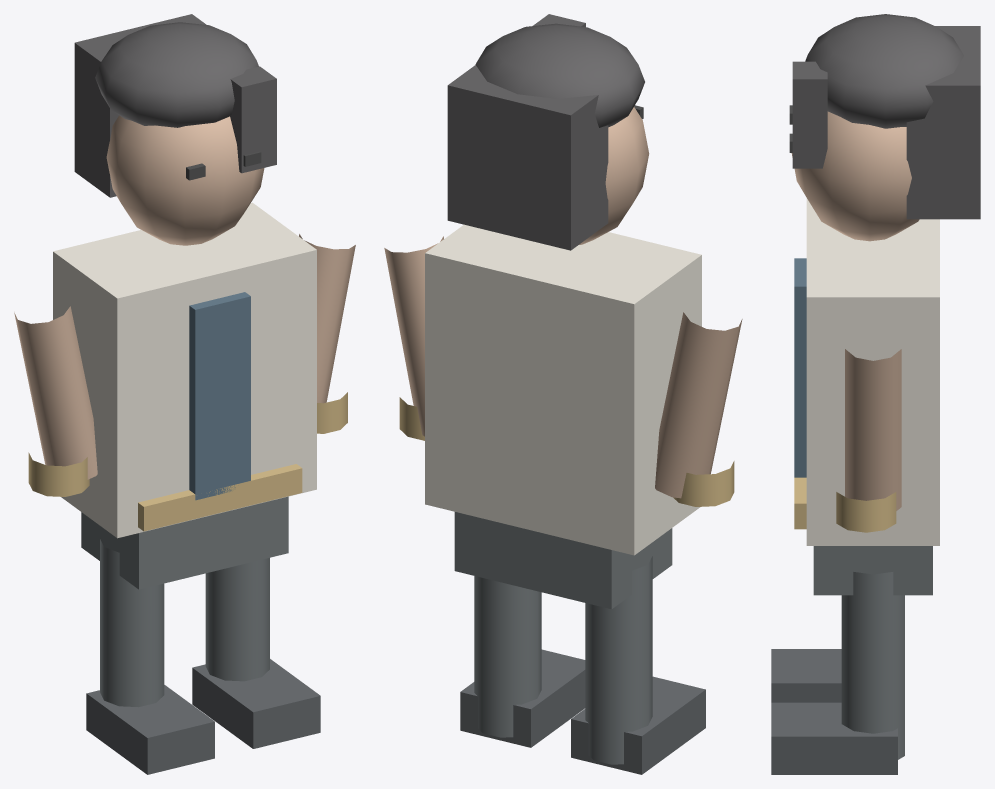
The model's file is iria-venn.glb.
3 renders of one model, left to right at view 1: azimuth 30°, elevation 25°; view 2: azimuth 150°, elevation 25°; view 3: azimuth 270°, elevation 25°, orthographic. The views are drawn at different scales.
Parts seen in each view (by area): view 1: Torso, Head, HairCap, Vest, Pelvis, ArmL, LegL, FootL, FootR, LegR, HairBack, Belt (+4 smaller); view 2: Torso, HairBack, Pelvis, HairCap, LegL, ArmL, LegR, FootL, FootR, ArmR, Head, CuffL (+1 smaller); view 3: Torso, HairCap, HairBack, Head, LegR, ArmR, FootR, Pelvis, FootL, HairLock, Vest, CuffR (+1 smaller).
Boxes of the visible parts, <box> form: Torso: <box>53,202,316,538</box>; Head: <box>106,115,264,245</box>; HairCap: <box>95,22,258,127</box>; Vest: <box>189,292,250,500</box>; Pelvis: <box>81,496,288,589</box>; ArmL: <box>14,306,97,479</box>; LegL: <box>100,539,164,707</box>; FootL: <box>86,685,214,774</box>; FootR: <box>192,659,320,748</box>; LegR: <box>205,558,269,681</box>; HairBack: <box>74,14,206,197</box>; Belt: <box>138,464,302,531</box>; Torso: <box>425,224,701,555</box>; HairBack: <box>447,65,608,250</box>; Pelvis: <box>454,512,672,609</box>; HairCap: <box>475,23,644,127</box>; LegL: <box>585,556,652,764</box>; ArmL: <box>655,312,742,498</box>; LegR: <box>474,576,541,737</box>; FootL: <box>571,676,705,774</box>; FootR: <box>460,649,585,747</box>; ArmR: <box>384,236,443,436</box>; Head: <box>579,107,649,244</box>; CuffL: <box>673,461,734,506</box>; Torso: <box>806,198,939,545</box>; HairCap: <box>805,14,963,128</box>; HairBack: <box>906,26,980,219</box>; Head: <box>791,111,919,241</box>; LegR: <box>841,572,904,759</box>; ArmR: <box>845,349,901,510</box>; FootR: <box>771,702,897,774</box>; Pelvis: <box>813,546,932,595</box>; FootL: <box>771,649,841,702</box>; HairLock: <box>792,61,827,168</box>; Vest: <box>794,258,806,477</box>; CuffR: <box>836,492,896,532</box>.
Bounding box in the file's own units: 1.14 × 2.21 × 0.595.
